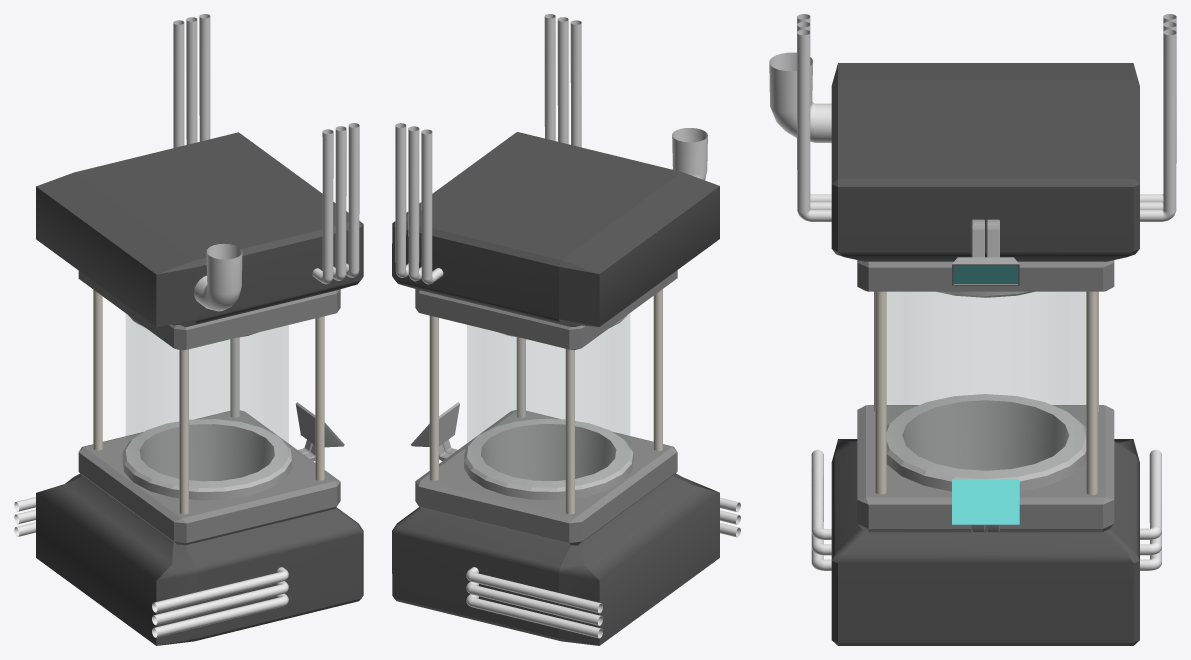
The model's file is Cryopod.fbx.
3 views of the same model, side by side, from view 1: azimuth 30°, elevation 25°; view 2: azimuth 150°, elevation 25°; view 3: azimuth 270°, elevation 25° (orthographic). The views are drawn at different scales.
Visible parts, largest first — view 1: Base, Glass, Mid_section, Glass_case, Bars, Tubes_small1, Tubes_small4, Tubes_small, Tube, Console; view 2: Base, Glass, Mid_section, Glass_case, Bars, Tubes_small, Tubes_small4, Tubes_small1, Tube, Console; view 3: Base, Glass, Mid_section, Glass_case, Bars, Tubes_small4, Tubes_small, Tubes_small1, Console, Tube, Screen.
Part boxes in pixels (x1,y1,x2,y2): Base: [36, 132, 363, 645]; Glass: [126, 314, 288, 487]; Mid_section: [78, 271, 340, 545]; Glass_case: [122, 315, 291, 500]; Bars: [93, 289, 324, 514]; Tubes_small1: [312, 123, 359, 284]; Tubes_small4: [14, 497, 288, 637]; Tubes_small: [173, 14, 210, 147]; Tube: [194, 243, 242, 311]; Console: [295, 402, 344, 461]; Base: [392, 132, 719, 645]; Glass: [467, 313, 629, 487]; Mid_section: [415, 270, 677, 545]; Glass_case: [464, 315, 633, 500]; Bars: [429, 289, 662, 514]; Tubes_small: [395, 123, 443, 284]; Tubes_small4: [466, 497, 740, 638]; Tubes_small1: [544, 14, 581, 147]; Tube: [672, 128, 707, 180]; Console: [411, 402, 459, 461]; Base: [831, 63, 1139, 645]; Glass: [887, 292, 1085, 478]; Mid_section: [857, 260, 1114, 532]; Glass_case: [886, 291, 1086, 491]; Bars: [874, 291, 1098, 494]; Tubes_small4: [811, 449, 1161, 570]; Tubes_small: [1140, 14, 1176, 221]; Tubes_small1: [797, 14, 831, 221]; Console: [952, 479, 1019, 532]; Tube: [769, 52, 831, 142]; Screen: [952, 219, 1019, 285].
Size of the model in its own units: 5.16 by 9.79 by 6.
